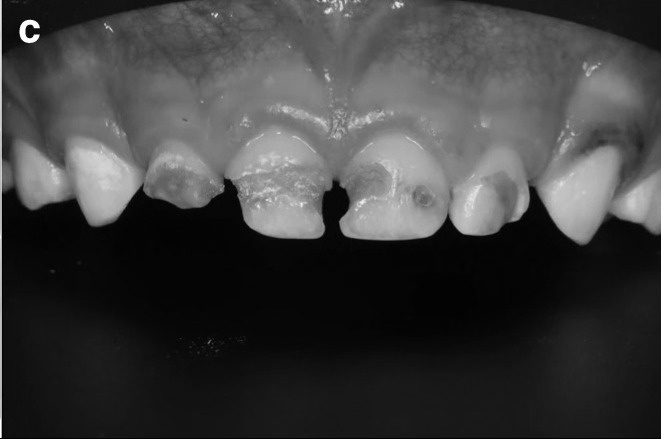karies: (340, 161, 441, 218), (232, 164, 324, 220), (144, 160, 223, 207), (465, 170, 524, 223)
